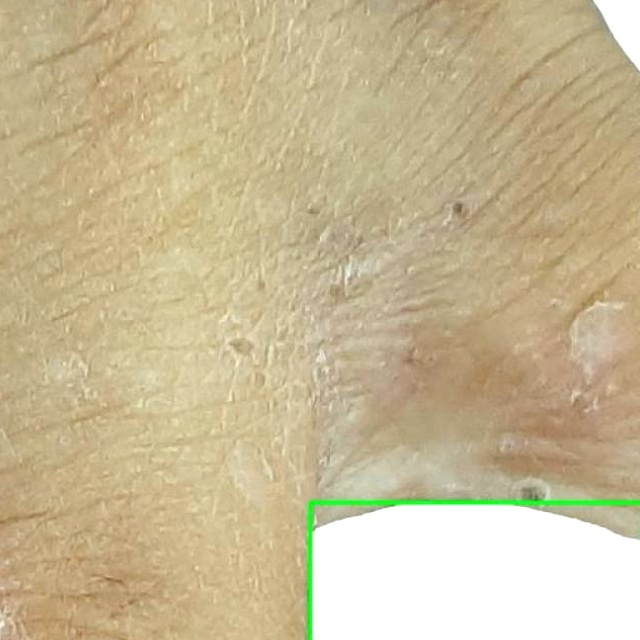Scabies: (310, 502, 639, 639)
